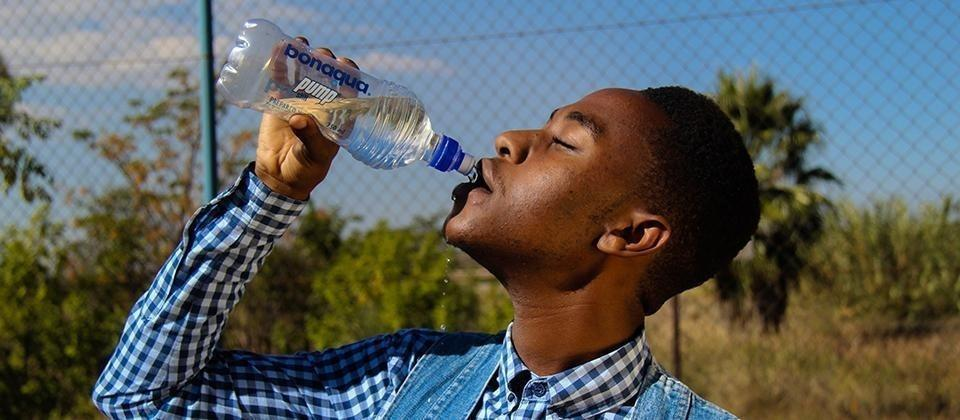bottle-plastic: (212, 15, 479, 179)
